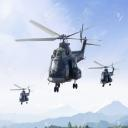helicopter: (17, 18, 109, 94), (92, 60, 116, 87), (10, 84, 40, 105)
